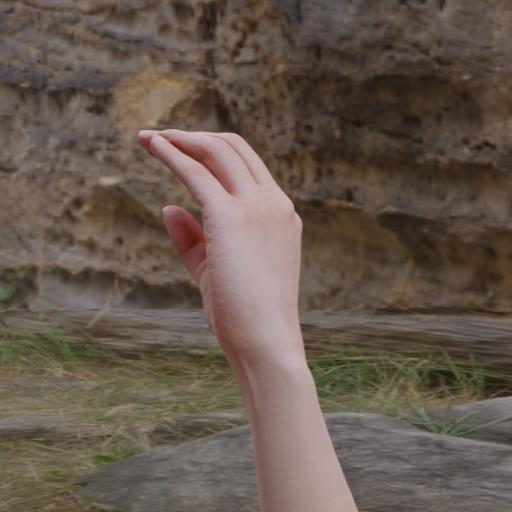C: (131, 124, 319, 374)
